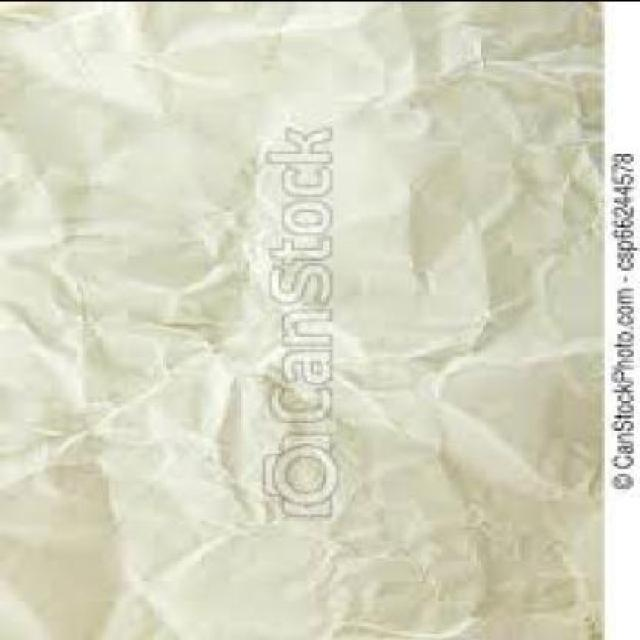PAPER: (0, 1, 602, 638)
